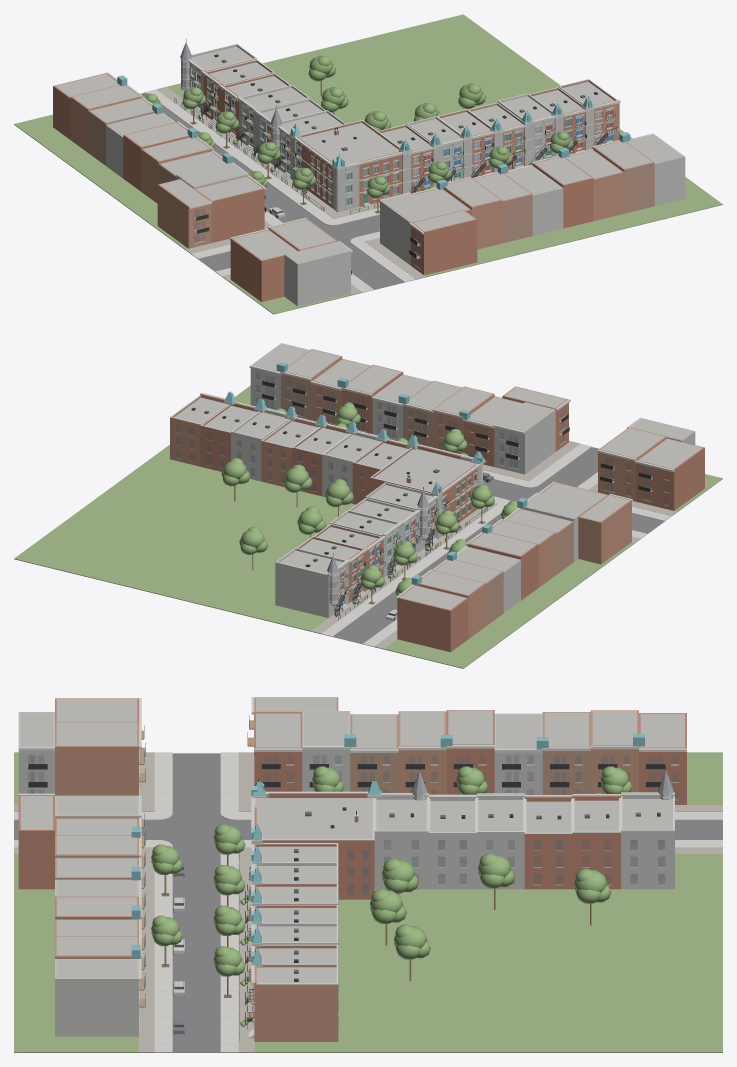
File: clay-montreal-plateau-rue-clay-v001.glb
The picture shows the model from 3 angles, top to bottom: view 1: azimuth 30°, elevation 25°; view 2: azimuth 150°, elevation 25°; view 3: azimuth 270°, elevation 25°; orthographic projection. The views are drawn at different scales.
Parts seen in each view (by area): view 1: CLAY_MEMBRANE, CLAY_LAWN, CLAY_BRICK, CLAY_STONE, CLAY_BRICK2, CLAY_STONE2, CLAY_PLANTING, CLAY_CONTEXT2, CLAY_ASPHALT, CLAY_CONCRETE, CLAY_GLASS, CLAY_YARD (+8 smaller); view 2: CLAY_LAWN, CLAY_MEMBRANE, CLAY_BRICK, CLAY_STONE, CLAY_BRICK2, CLAY_PLANTING, CLAY_STONE2, CLAY_GLASS, CLAY_ASPHALT, CLAY_CONTEXT2, CLAY_CONCRETE, CLAY_YARD (+4 smaller); view 3: CLAY_LAWN, CLAY_MEMBRANE, CLAY_STONE, CLAY_BRICK, CLAY_ASPHALT, CLAY_BRICK2, CLAY_PLANTING, CLAY_CONCRETE, CLAY_STONE2, CLAY_YARD, CLAY_GLASS, CLAY_CONTEXT2 (+4 smaller).
Boxes of the visible parts, x1,y1,x2,y2 form: CLAY_MEMBRANE: [55, 46, 682, 263]; CLAY_LAWN: [14, 14, 722, 314]; CLAY_BRICK: [53, 60, 593, 302]; CLAY_STONE: [106, 45, 685, 306]; CLAY_BRICK2: [70, 80, 624, 250]; CLAY_STONE2: [106, 44, 653, 252]; CLAY_PLANTING: [143, 55, 573, 198]; CLAY_CONTEXT2: [88, 98, 654, 243]; CLAY_ASPHALT: [140, 92, 403, 289]; CLAY_CONCRETE: [145, 89, 415, 292]; CLAY_GLASS: [181, 67, 612, 268]; CLAY_YARD: [156, 87, 425, 294]; CLAY_LAWN: [14, 385, 722, 668]; CLAY_MEMBRANE: [174, 343, 702, 609]; CLAY_BRICK: [200, 364, 704, 652]; CLAY_STONE: [231, 343, 695, 617]; CLAY_BRICK2: [170, 358, 666, 638]; CLAY_PLANTING: [221, 402, 520, 603]; CLAY_STONE2: [170, 365, 674, 620]; CLAY_GLASS: [176, 373, 668, 606]; CLAY_ASPHALT: [333, 447, 664, 644]; CLAY_CONTEXT2: [281, 349, 573, 626]; CLAY_CONCRETE: [321, 443, 671, 646]; CLAY_YARD: [311, 441, 677, 649]; CLAY_LAWN: [14, 752, 722, 1052]; CLAY_MEMBRANE: [20, 698, 684, 983]; CLAY_STONE: [18, 711, 674, 1036]; CLAY_BRICK: [18, 698, 686, 951]; CLAY_ASPHALT: [14, 753, 722, 1052]; CLAY_BRICK2: [55, 697, 638, 1041]; CLAY_PLANTING: [151, 766, 632, 1026]; CLAY_CONCRETE: [14, 752, 722, 1052]; CLAY_STONE2: [18, 697, 686, 1041]; CLAY_YARD: [14, 752, 722, 1052]; CLAY_GLASS: [28, 715, 677, 1029]; CLAY_CONTEXT2: [55, 712, 590, 958].
Bounding box in the file's own units: 118 × 16.1 × 118.
